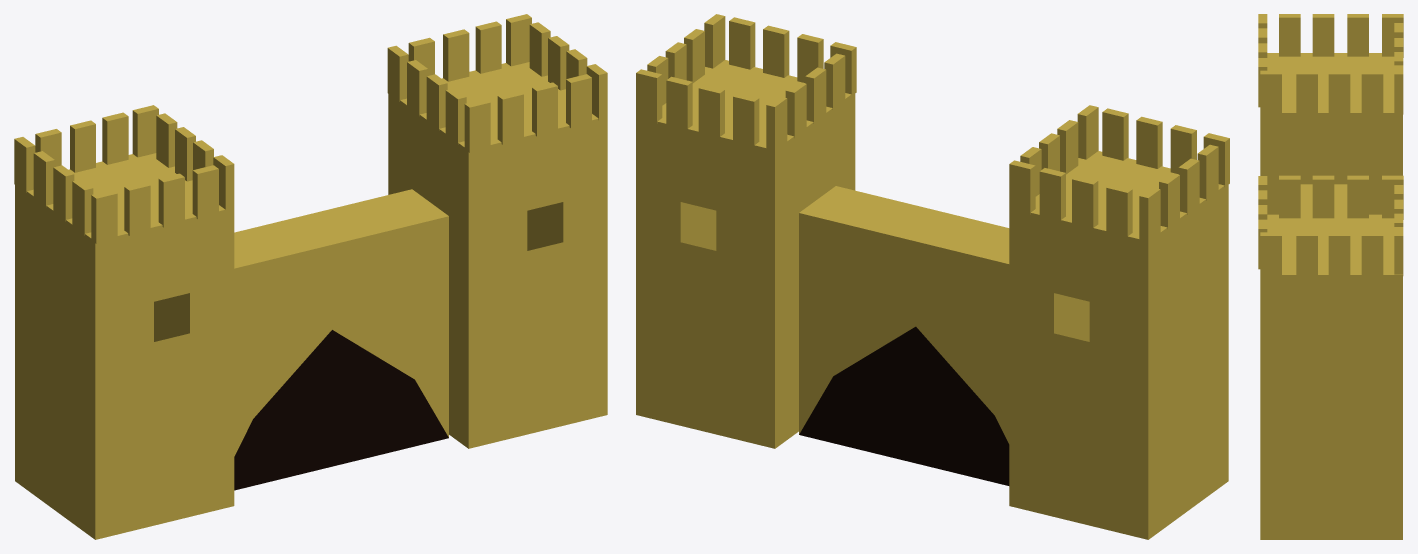
The model's file is gate1.obj.
The picture shows the model from 3 angles, left to right: view 1: azimuth 30°, elevation 25°; view 2: azimuth 150°, elevation 25°; view 3: azimuth 270°, elevation 25°; orthographic projection. The views are drawn at different scales.
Parts seen in each view (by area): view 1: Cube.001_Cube.002, Cube_Cube.001, Plane; view 2: Cube.001_Cube.002, Cube_Cube.001, Plane; view 3: Cube_Cube.001, Cube.001_Cube.002, Plane.
Part boxes in pixels (x1,y1,x2,y2): Cube.001_Cube.002: [14, 105, 234, 539]; Cube_Cube.001: [387, 14, 607, 448]; Plane: [234, 189, 448, 490]; Cube.001_Cube.002: [1009, 105, 1229, 539]; Cube_Cube.001: [636, 14, 856, 448]; Plane: [799, 186, 1009, 485]; Cube_Cube.001: [1258, 175, 1403, 539]; Cube.001_Cube.002: [1258, 14, 1403, 214]; Plane: [1300, 184, 1347, 214].
Size of the model in its own units: 35.18 by 22.66 by 9.74.
